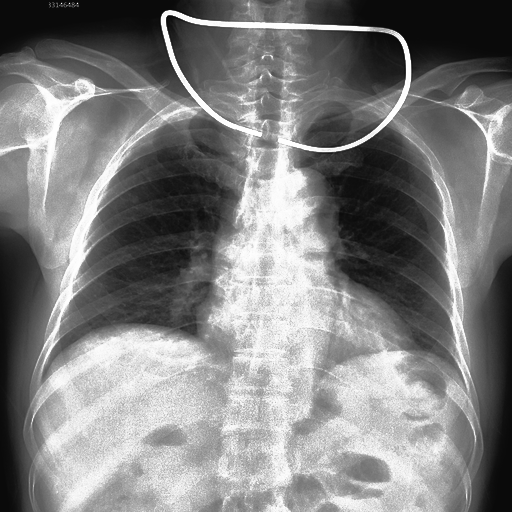Consolidation: (276, 166, 337, 241)
Nodule/Mass: (194, 308, 415, 360)
